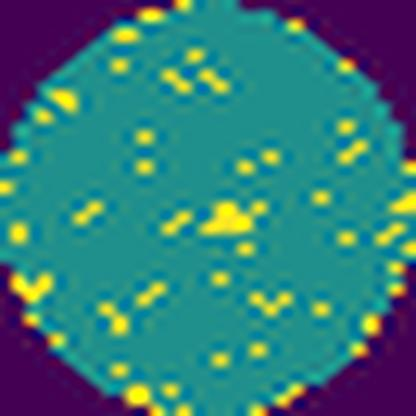Center: (194, 196, 261, 247)
